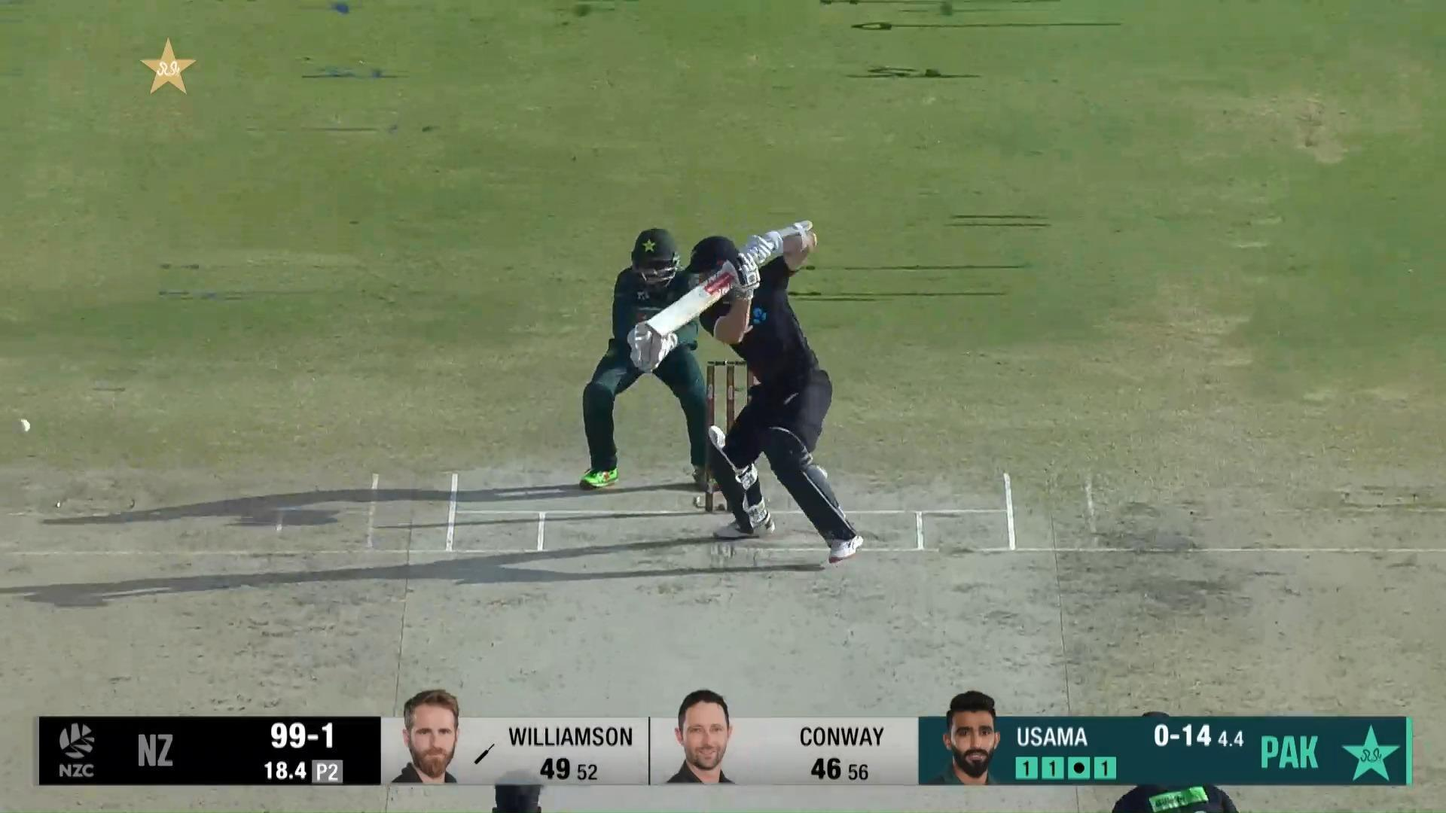BM 1: (645, 217, 864, 564)
BO: (490, 768, 543, 813)
